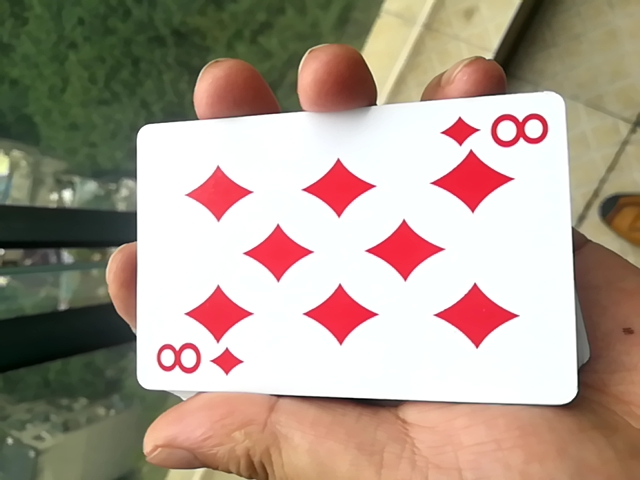fk 8: (117, 109, 575, 427)
